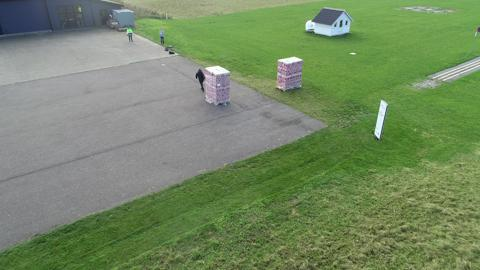RockwoolPallet: (204, 64, 232, 107)
